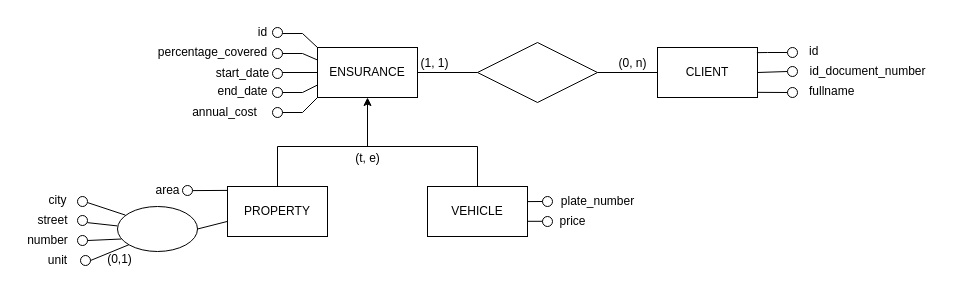
Image size: 954x292. Some labels were removed from this diagram. The box of each missing label's shape, as (x1, y1, x2, y2) in pixels:
acquires: (476, 42, 598, 102)
address: (116, 206, 198, 252)
